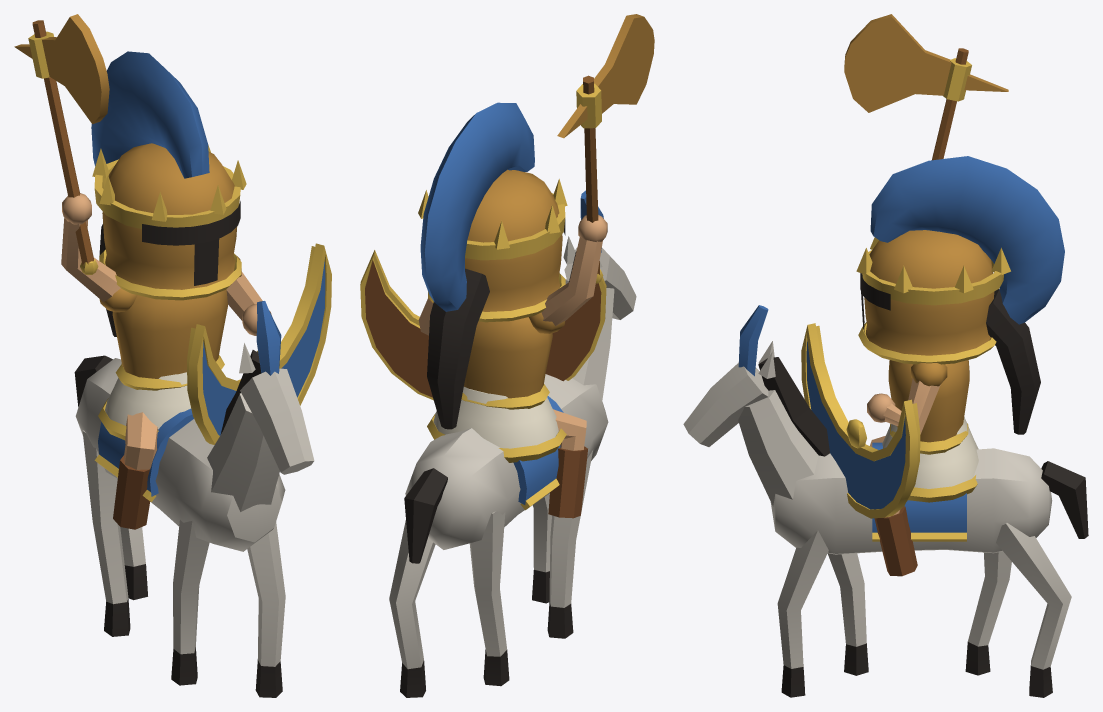
File: penthesilea.glb
3 renders of one model, left to right at view 1: azimuth 30°, elevation 25°; view 2: azimuth 150°, elevation 25°; view 3: azimuth 270°, elevation 25°, orthographic. The views are drawn at different scales.
Parts seen in each view (by area): view 1: penthesilea; view 2: penthesilea; view 3: penthesilea.
Part boxes in pixels (x1,y1,x2,y2): penthesilea: (14,14,331,697); penthesilea: (360,14,654,697); penthesilea: (683,14,1088,697).
Bounding box in the file's own units: 0.4854 × 1.14 × 0.6838.
